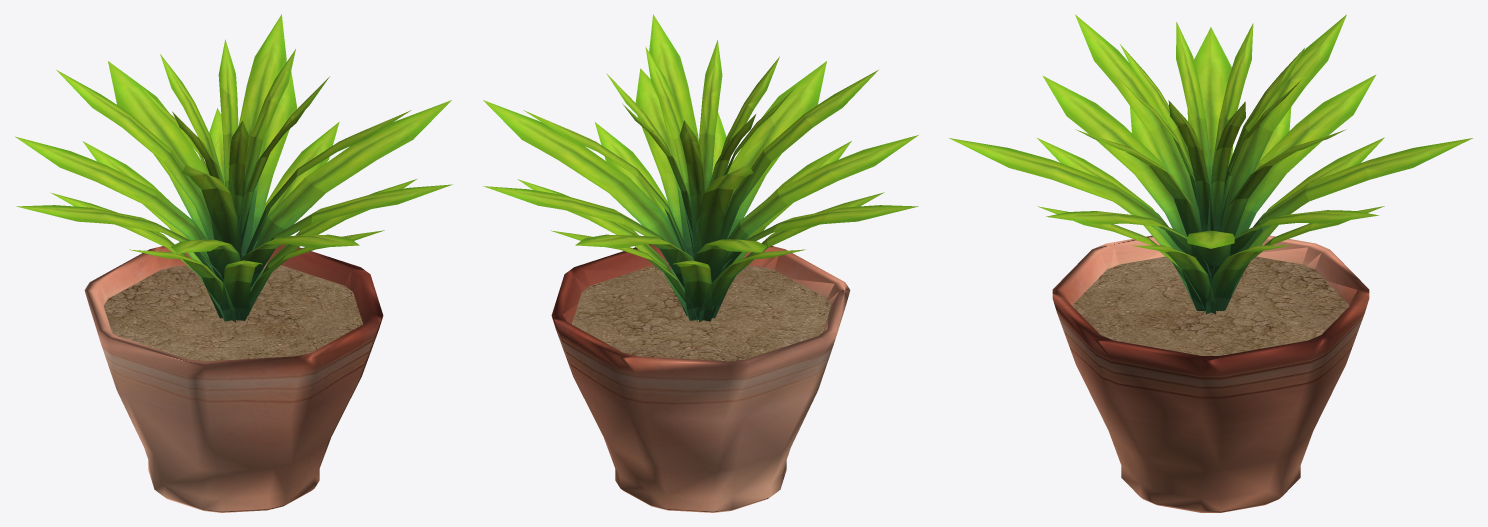
File: littlePlant.glb
3 views of the same model, side by side, from view 1: azimuth 30°, elevation 25°; view 2: azimuth 150°, elevation 25°; view 3: azimuth 270°, elevation 25° (orthographic). The views are drawn at different scales.
Visible parts, largest first — view 1: littlePlant; view 2: littlePlant; view 3: littlePlant.
Part boxes in pixels (left/top/right/bottom): littlePlant: left=15, top=14, right=452, bottom=512; littlePlant: left=483, top=14, right=918, bottom=512; littlePlant: left=949, top=14, right=1472, bottom=512.
Size of the model in its own units: 0.266 by 0.2319 by 0.2661.
3 materials, 3 textured.
